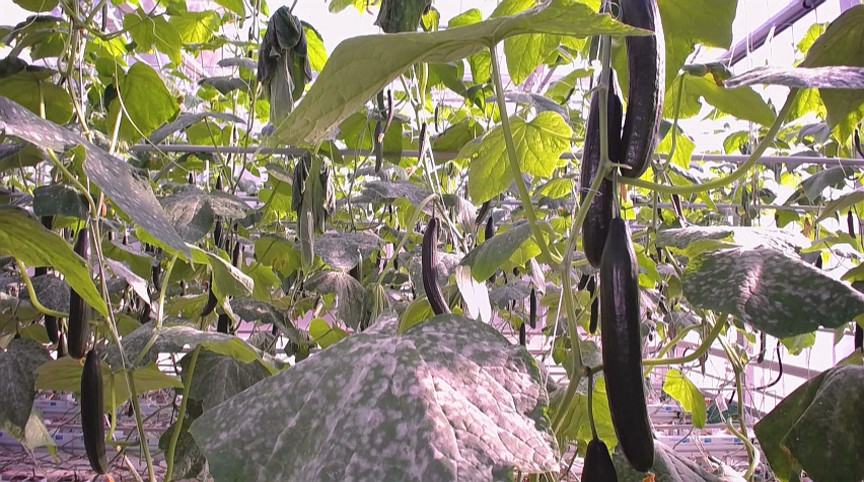cucumber: (600, 219, 655, 470), (583, 68, 623, 266), (621, 1, 664, 177), (68, 229, 95, 358), (81, 351, 109, 473), (420, 218, 452, 317), (581, 440, 619, 482)
